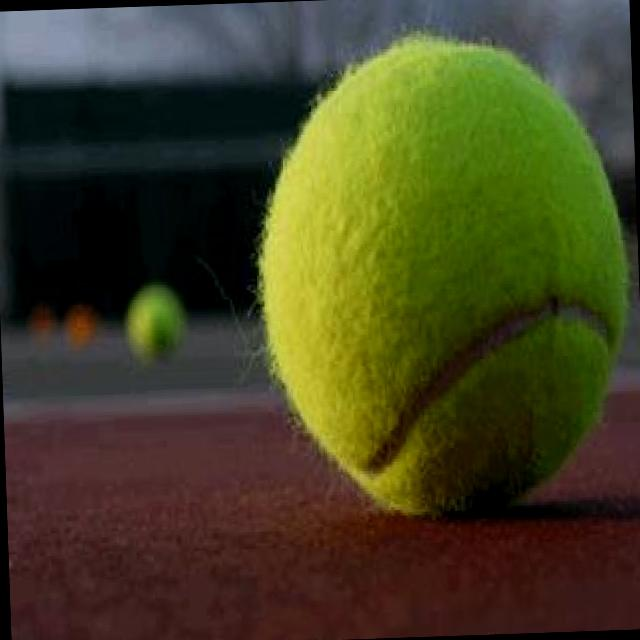Tennis Ball: (255, 33, 630, 518), (124, 281, 188, 368)
